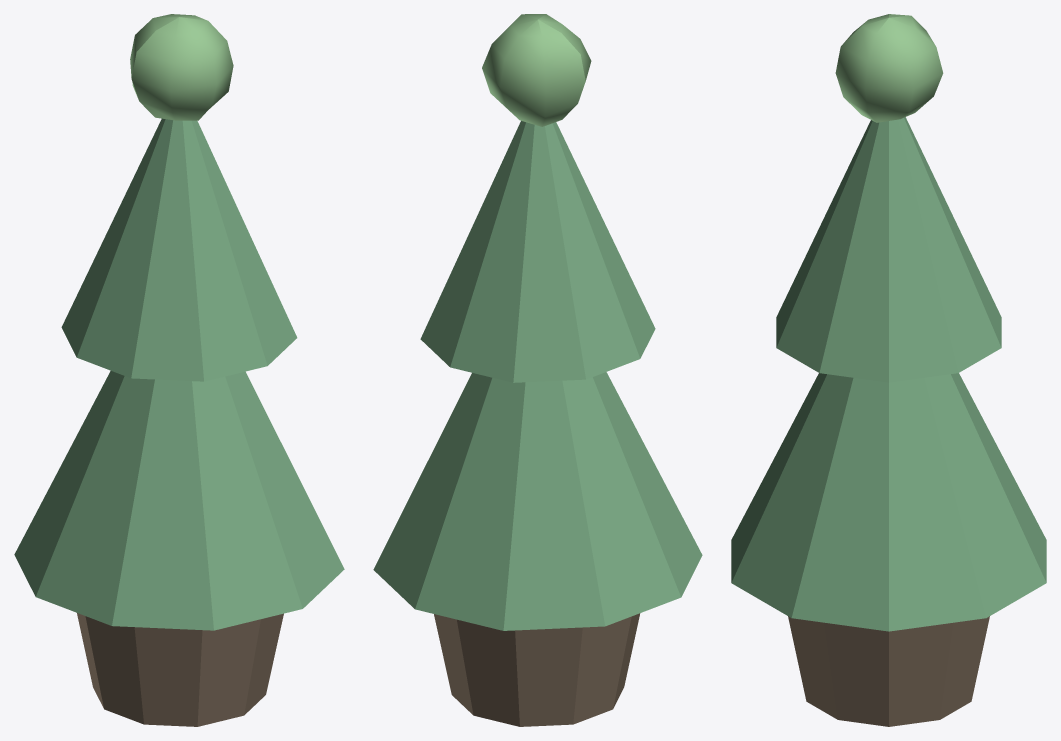
The model's file is topiary_cone.glb.
3 views of the same model, side by side, from view 1: azimuth 30°, elevation 25°; view 2: azimuth 150°, elevation 25°; view 3: azimuth 270°, elevation 25° (orthographic).
Visible parts, largest first — view 1: topiary-cone; view 2: topiary-cone; view 3: topiary-cone.
Boxes of the visible parts, left/top/right/bottom form: topiary-cone: left=14, top=14, right=344, bottom=726; topiary-cone: left=373, top=14, right=702, bottom=726; topiary-cone: left=731, top=14, right=1046, bottom=726.
Bounding box in the file's own units: 0.84 × 1.88 × 0.7989.
